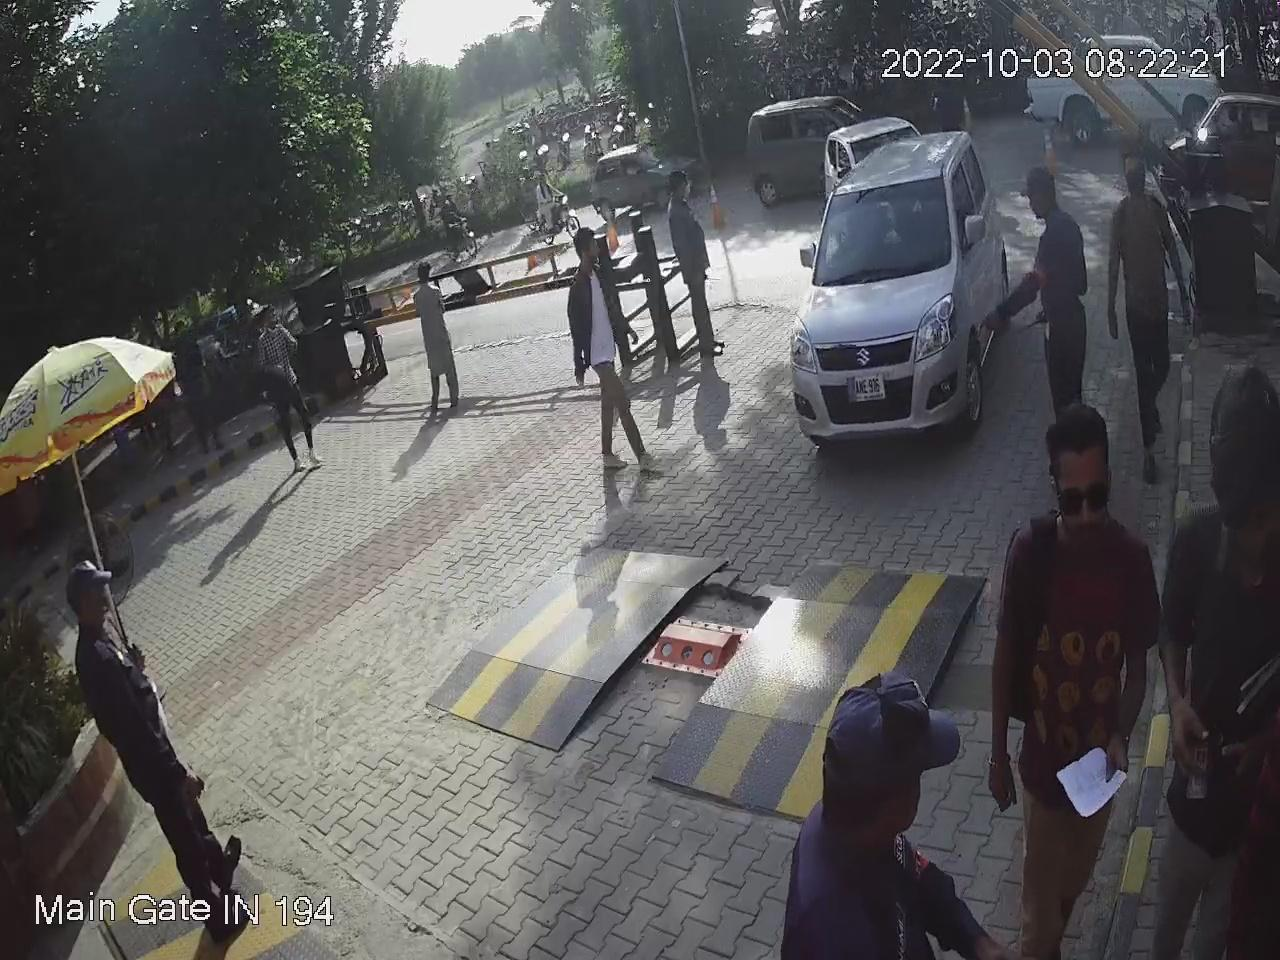windshield: (808, 165, 955, 295)
